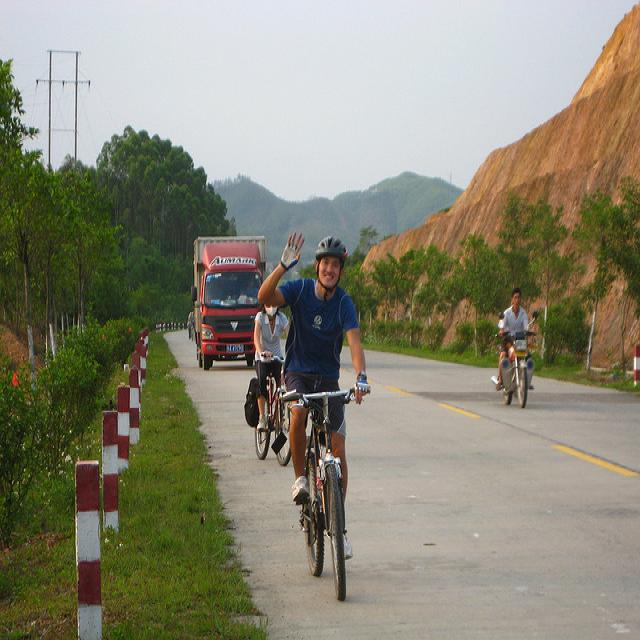motor: (501, 313, 538, 408)
